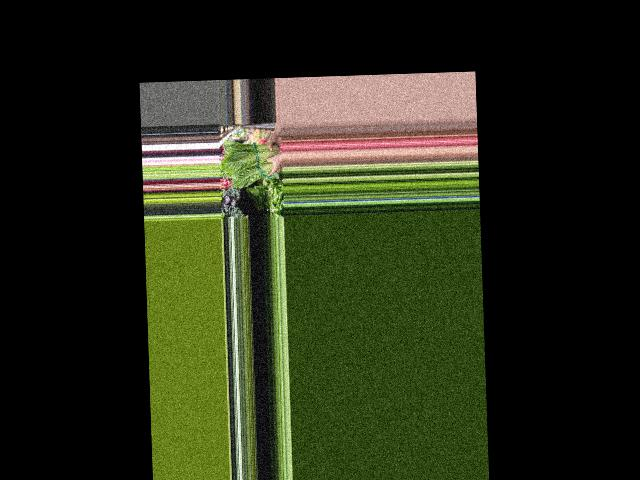lettuce: (223, 140, 284, 189)
